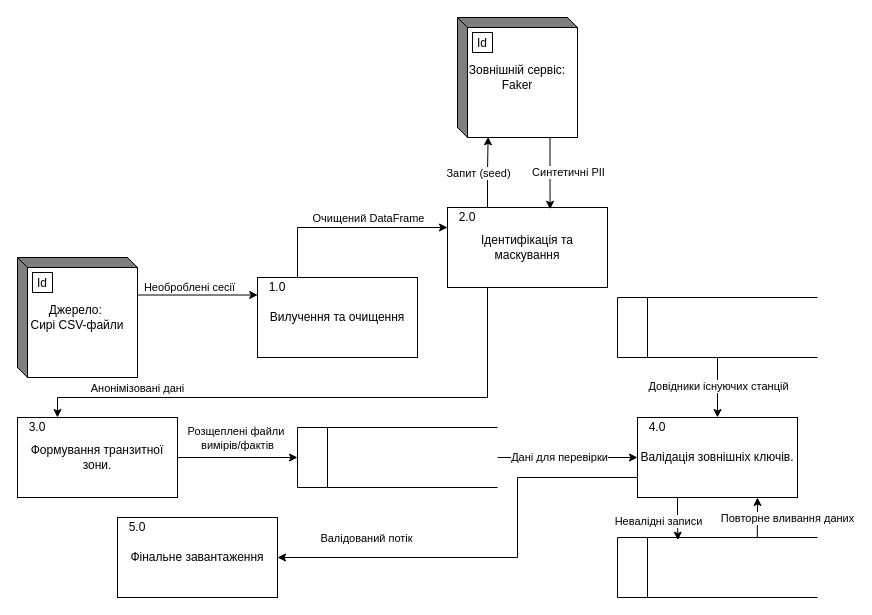
Image size: 872x615. Some labels were removed from this diagram. The centre of each missing label's shape, as x and y in pixels:
D1 Staging Area: point 397,457
D2 Карантин (DLQ): point 717,567
D3 Data Warehouse (SQLite): point 717,327
